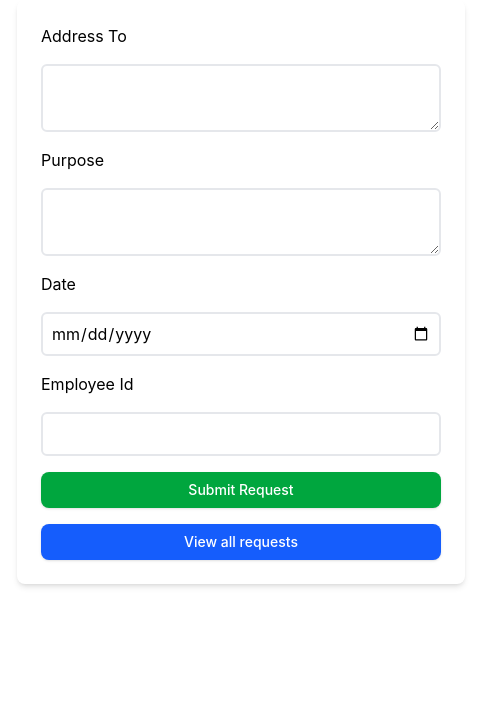
Test: Request form shows errors on submit
# simulate interactions
Click the button "Submit Request" at (241, 490), box [41,472,441,508]
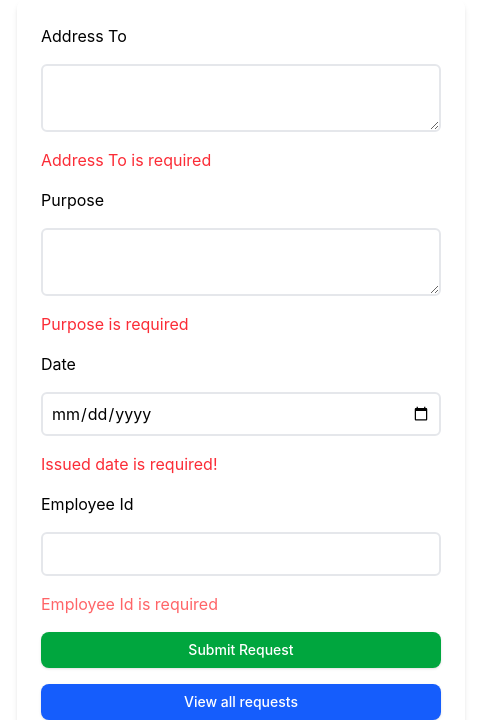
Expected: the text "Address To is required" is shown, [41,150,211,170]
Expected: the text "Purpose is required" is shown, [41,314,188,334]
Expected: the text "Issued date is required!" is shown, [41,454,218,474]
